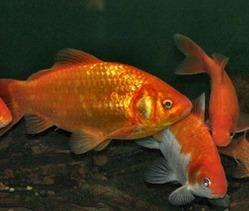Gold Fish: (0, 48, 192, 158), (138, 92, 231, 207), (166, 26, 245, 144)
